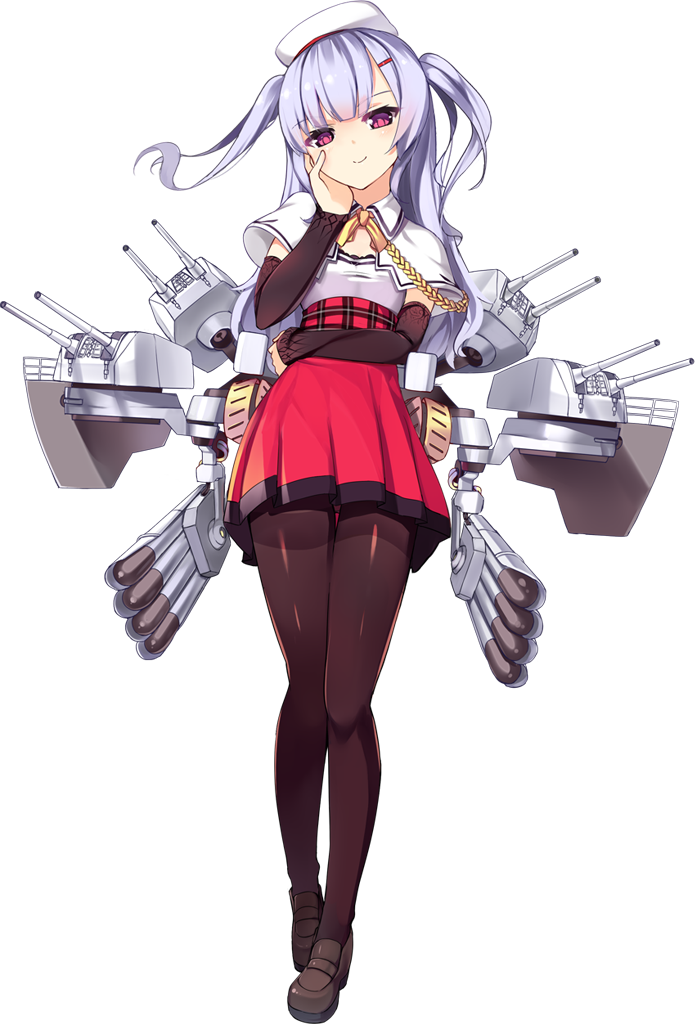person: (126, 9, 522, 670)
